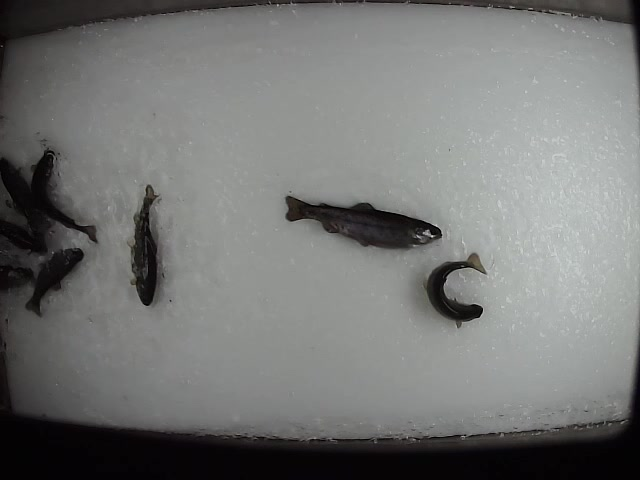fish: (279, 189, 443, 253), (26, 148, 100, 247), (421, 249, 488, 330), (21, 245, 87, 319), (129, 182, 166, 306)
